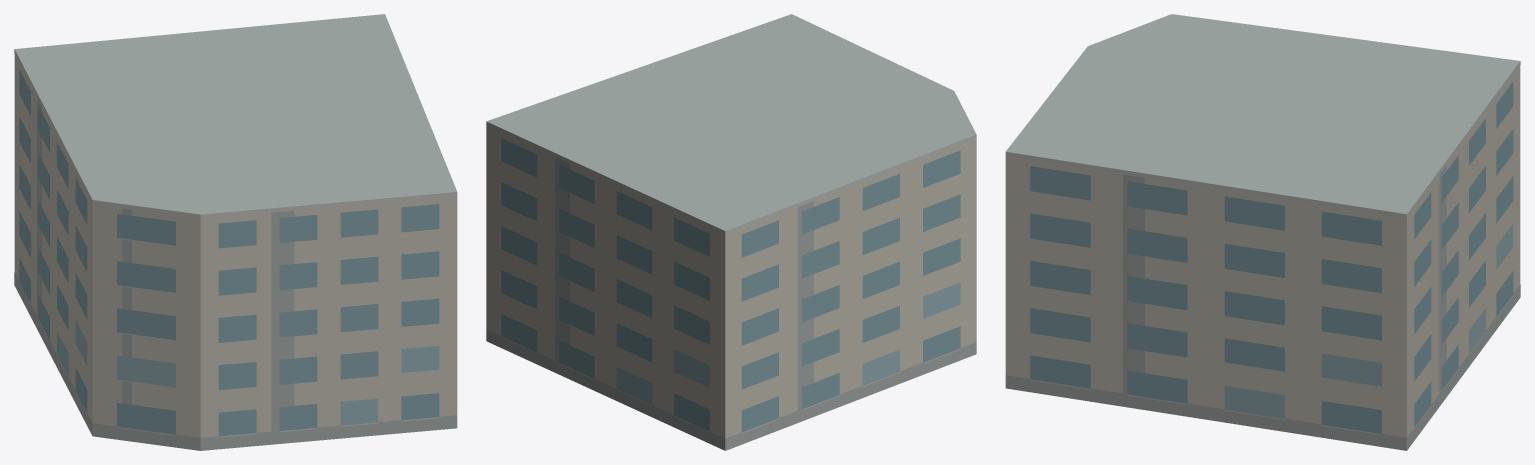
Rendered from survey-upis-33033284.glb.
The picture shows the model from 3 angles, left to right: view 1: azimuth 30°, elevation 25°; view 2: azimuth 150°, elevation 25°; view 3: azimuth 270°, elevation 25°; orthographic projection. The views are drawn at different scales.
Parts seen in each view (by area): view 1: survey-upis-33033284.tmp; view 2: survey-upis-33033284.tmp; view 3: survey-upis-33033284.tmp.
Part boxes in pixels (x1=…): survey-upis-33033284.tmp: x1=14, y1=14, x2=457, y2=450; survey-upis-33033284.tmp: x1=486, y1=14, x2=976, y2=450; survey-upis-33033284.tmp: x1=1005, y1=14, x2=1520, y2=450.
Size of the model in its own units: 24.33 by 13.4 by 26.43.
